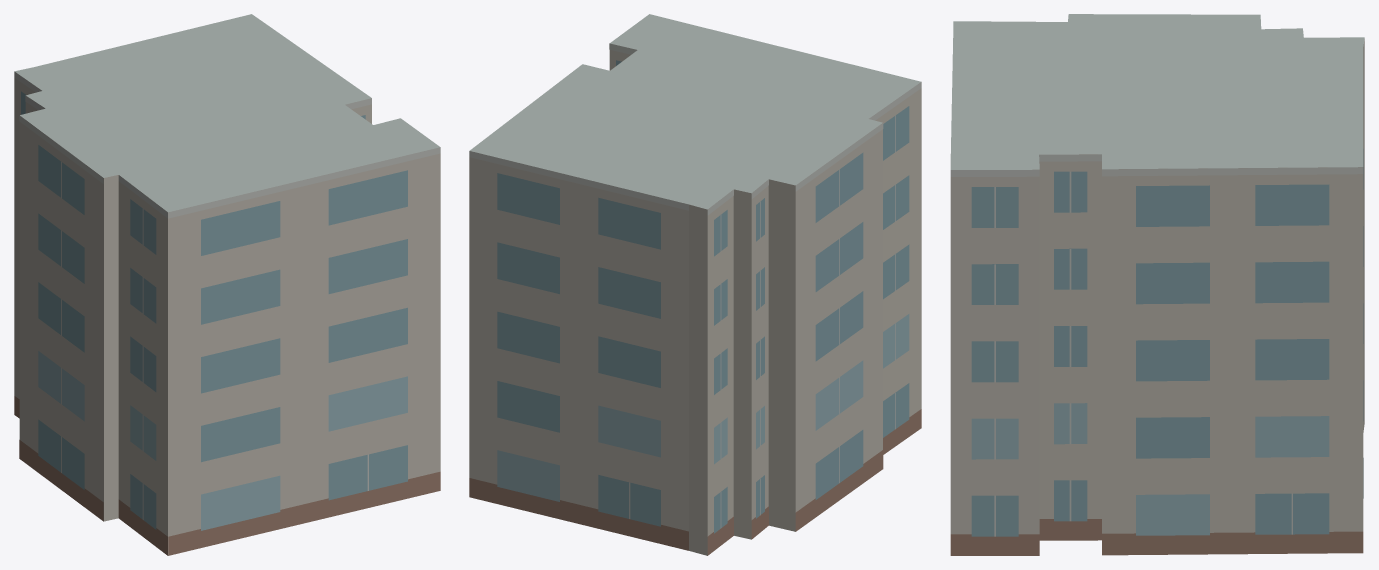
Rendered from survey-upis-33008800.glb.
3 renders of one model, left to right at view 1: azimuth 30°, elevation 25°; view 2: azimuth 150°, elevation 25°; view 3: azimuth 270°, elevation 25°, orthographic. The views are drawn at different scales.
Parts seen in each view (by area): view 1: survey-upis-33008800.tmp; view 2: survey-upis-33008800.tmp; view 3: survey-upis-33008800.tmp.
Boxes of the visible parts, x1=… form: survey-upis-33008800.tmp: x1=14, y1=14, x2=440, y2=555; survey-upis-33008800.tmp: x1=469, y1=14, x2=921, y2=555; survey-upis-33008800.tmp: x1=950, y1=14, x2=1364, y2=555.
Size of the model in its own units: 11.61 by 13.4 by 13.04.
